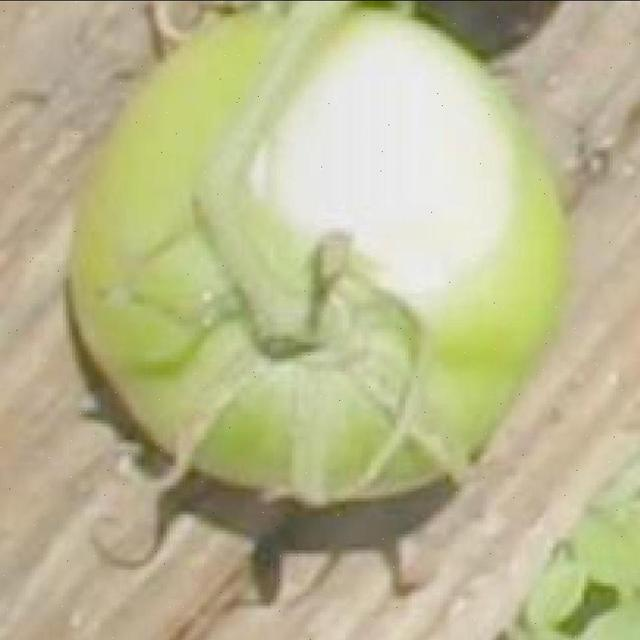Sunscald Fruit: (166, 20, 347, 202)
